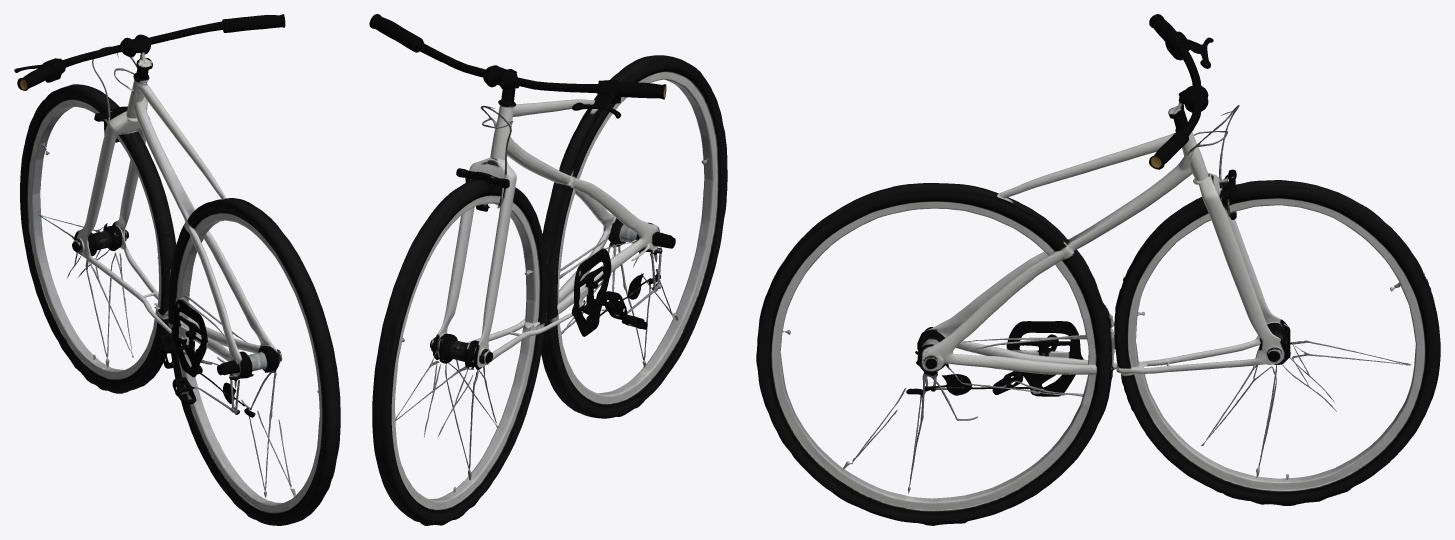
File: model_f6e592f7-7c22-4037-89af-f1be5fbadb91_draco.glb
The picture shows the model from 3 angles, left to right: view 1: azimuth 30°, elevation 25°; view 2: azimuth 150°, elevation 25°; view 3: azimuth 270°, elevation 25°; orthographic projection. The views are drawn at different scales.
Parts seen in each view (by area): view 1: tripo_node_f6e592f7-7c22-4037-89af-f1be5fbadb91; view 2: tripo_node_f6e592f7-7c22-4037-89af-f1be5fbadb91; view 3: tripo_node_f6e592f7-7c22-4037-89af-f1be5fbadb91.
Part boxes in pixels (x1,y1,x2,y2): tripo_node_f6e592f7-7c22-4037-89af-f1be5fbadb91: (14, 14, 340, 525); tripo_node_f6e592f7-7c22-4037-89af-f1be5fbadb91: (369, 14, 727, 525); tripo_node_f6e592f7-7c22-4037-89af-f1be5fbadb91: (756, 14, 1440, 525).
Bounding box in the file's own units: 0.4937 × 0.7087 × 0.9958.
Materials: 1 (1 with a texture image).
